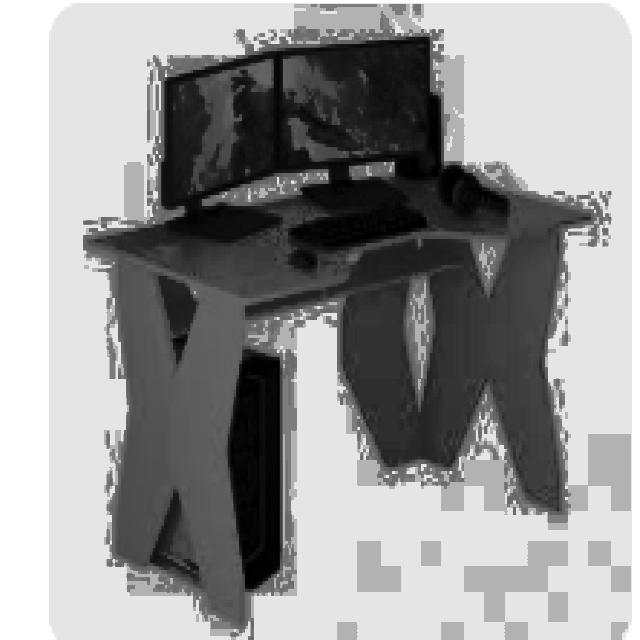table: (81, 162, 591, 625)
